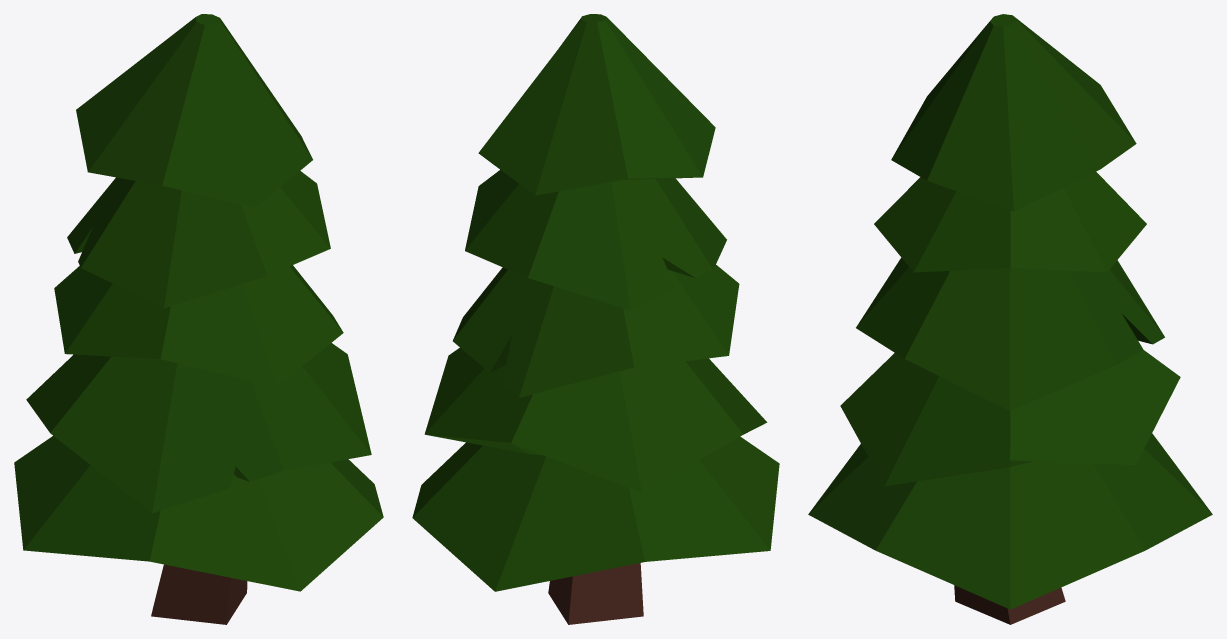
The model's file is Tree5.fbx.
3 views of the same model, side by side, from view 1: azimuth 30°, elevation 25°; view 2: azimuth 150°, elevation 25°; view 3: azimuth 270°, elevation 25° (orthographic).
Visible parts, largest first — view 1: Needles5, Trunk5; view 2: Needles5, Trunk5; view 3: Needles5, Trunk5.
Boxes of the visible parts, x1,y1,x2,y2 form: Needles5: (14, 14, 383, 591); Trunk5: (151, 564, 247, 624); Needles5: (412, 14, 779, 591); Trunk5: (548, 563, 643, 624); Needles5: (808, 14, 1212, 609); Trunk5: (954, 585, 1065, 624).
Size of the model in its own units: 366 by 366 by 584.
